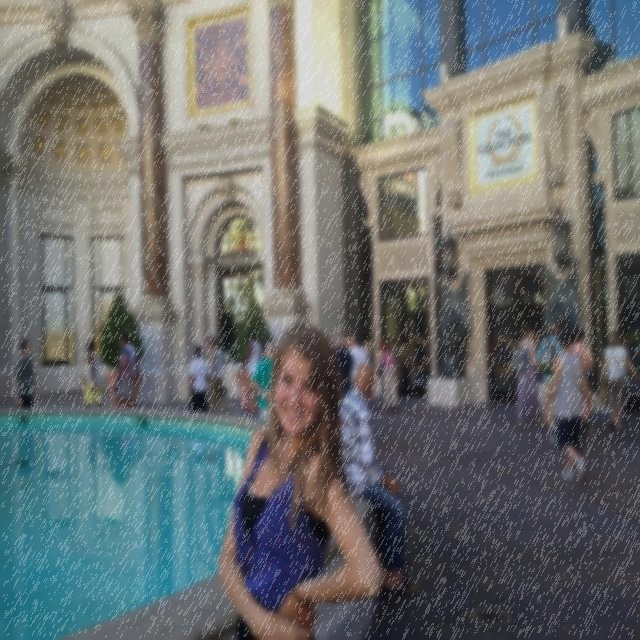pessoa: (215, 318, 388, 640), (338, 362, 421, 597), (540, 326, 594, 488), (598, 327, 640, 434), (534, 320, 564, 443), (516, 324, 548, 431), (566, 327, 596, 435), (10, 338, 42, 432), (238, 326, 265, 419), (250, 339, 278, 422), (206, 335, 232, 415), (376, 336, 400, 414), (80, 338, 104, 409), (12, 432, 39, 494), (114, 332, 135, 410), (187, 343, 210, 413), (332, 333, 354, 400), (348, 331, 368, 394), (120, 331, 140, 380), (189, 439, 221, 464), (361, 340, 374, 369), (343, 333, 352, 351), (264, 348, 269, 358)
